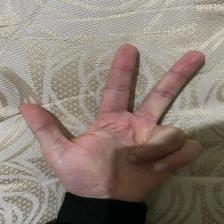three: (22, 43, 207, 184)
